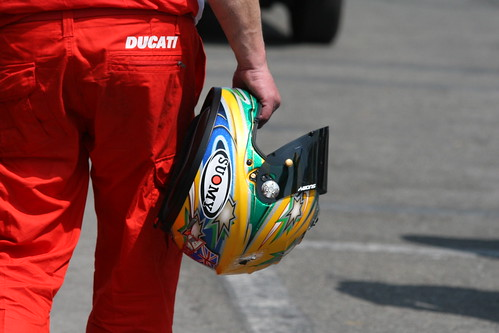helmet: (154, 81, 337, 277)
